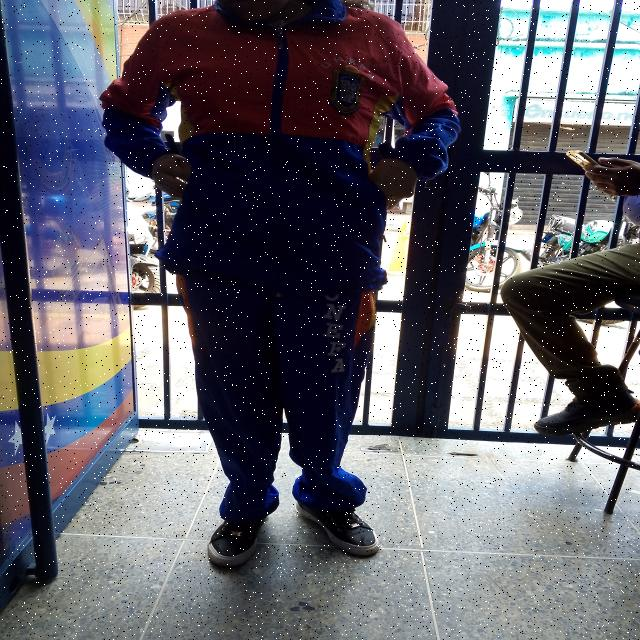chaqueta_unefa: (98, 0, 462, 291)
uniforme_superior: (176, 276, 377, 520)
